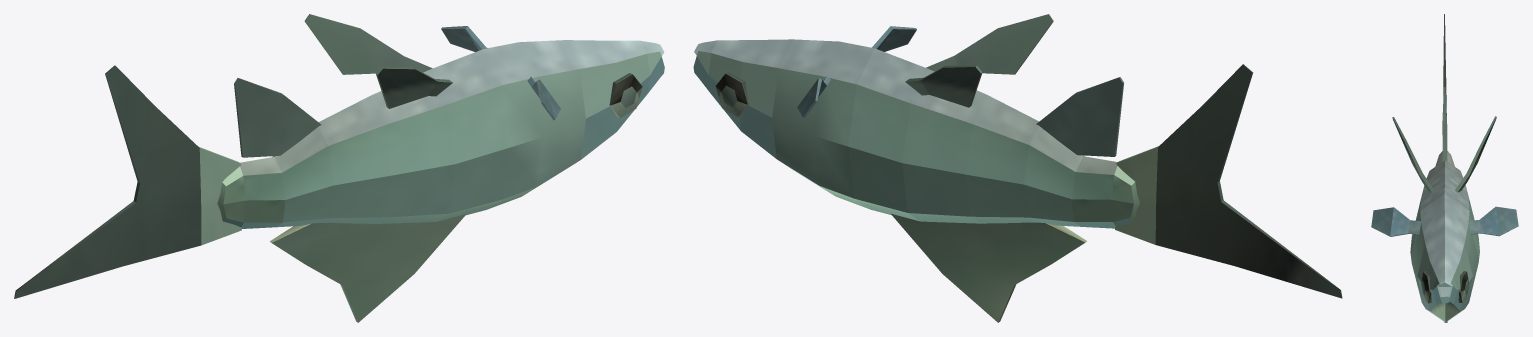
File: fish_1.glb
3 renders of one model, left to right at view 1: azimuth 30°, elevation 25°; view 2: azimuth 150°, elevation 25°; view 3: azimuth 270°, elevation 25°, orthographic. The views are drawn at different scales.
Visible parts, largest first — view 1: Geo_Goldfish001; view 2: Geo_Goldfish001; view 3: Geo_Goldfish001.
Boxes of the visible parts, box(x1,y1,x2,y2) form: Geo_Goldfish001: box(14, 14, 664, 322); Geo_Goldfish001: box(693, 14, 1342, 322); Geo_Goldfish001: box(1371, 14, 1518, 322).
Size of the model in its own units: 0.9539 by 0.4467 by 0.2655.
1 material, 1 textured.
